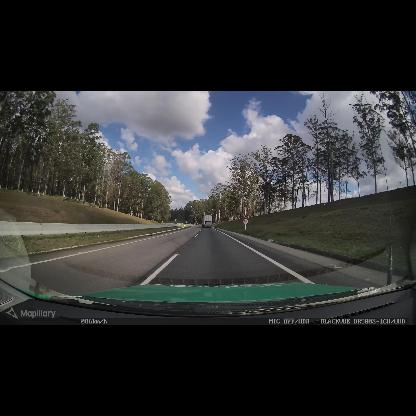R-19: (243, 219, 249, 224)
